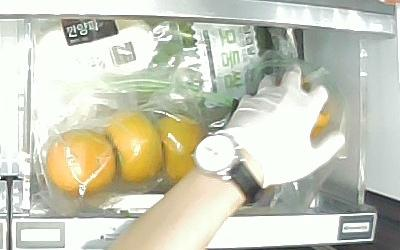persimmon_vinyl: (47, 130, 116, 199), (107, 114, 161, 184), (159, 116, 203, 179)
